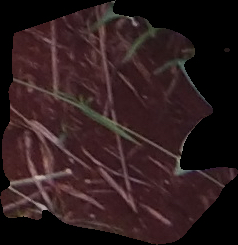soil: (2, 3, 232, 240)
